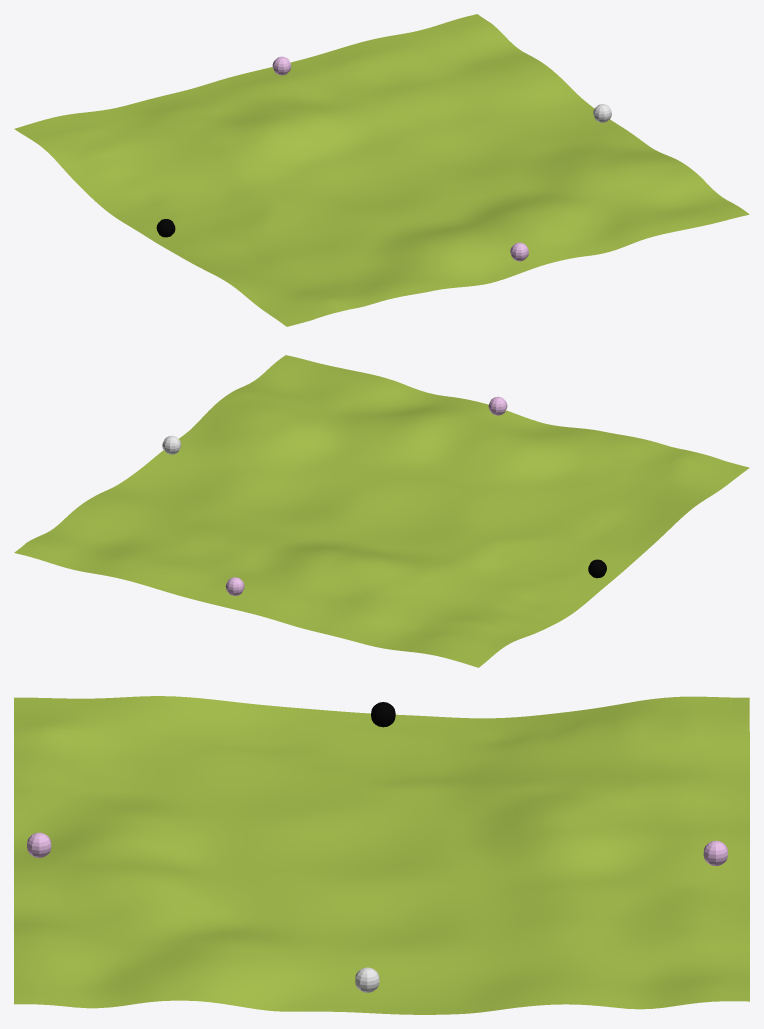
File: marqueurs_carre8.fbx
The picture shows the model from 3 angles, top to bottom: view 1: azimuth 30°, elevation 25°; view 2: azimuth 150°, elevation 25°; view 3: azimuth 270°, elevation 25°; orthographic projection. The views are drawn at different scales.
Parts seen in each view (by area): view 1: carre8; view 2: carre8; view 3: carre8.
Part boxes in pixels (<box>): carre8: <box>14,14,749,326</box>; carre8: <box>14,355,749,667</box>; carre8: <box>14,696,749,1014</box>.
Size of the model in its own units: 710 by 48.54 by 720.
